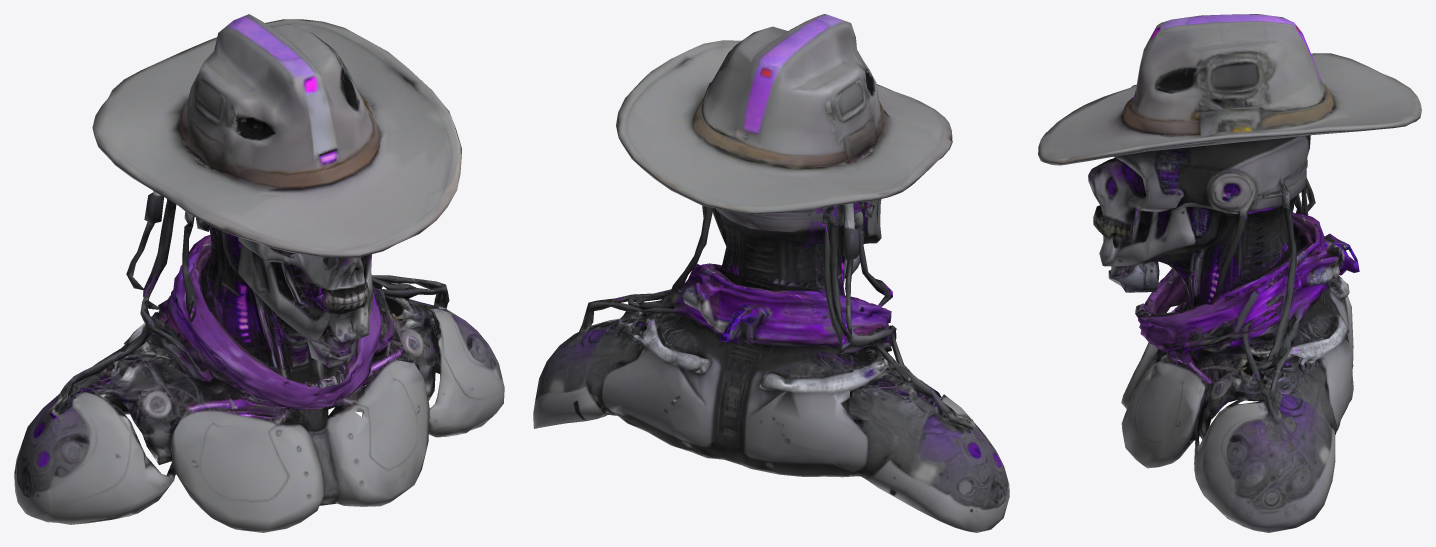
File: humanoid_crash_test_t_0518034651_texture.glb
3 views of the same model, side by side, from view 1: azimuth 30°, elevation 25°; view 2: azimuth 150°, elevation 25°; view 3: azimuth 270°, elevation 25° (orthographic). The views are drawn at different scales.
Size of the model in its own units: 2 by 1.8 by 1.52.
Materials: 1 (1 with a texture image).
